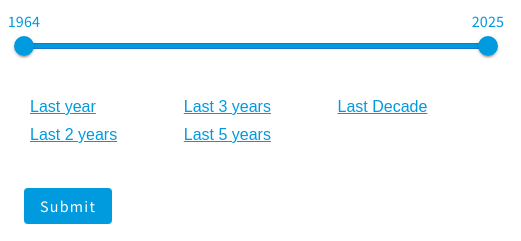
Test: RangeSlider component test › sets value correctly after preset click
Click the button "Last year". click: [63, 107]
box: [24,97,102,117]
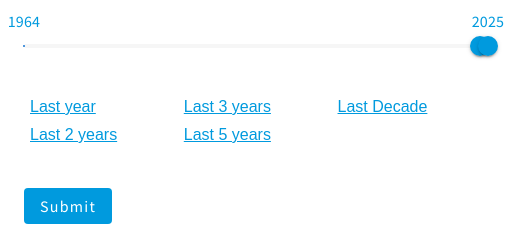
Expected: the slider showing "2025" is shown, [478,36,498,56]
Result: the 1st slider showing "2024" is shown at [470,36,490,56]
